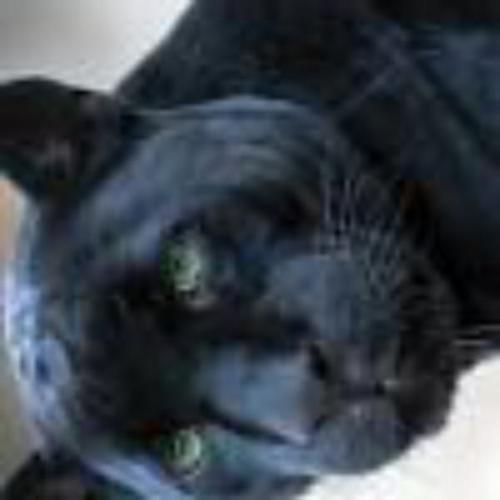panther-endangered: (1, 33, 500, 482)
